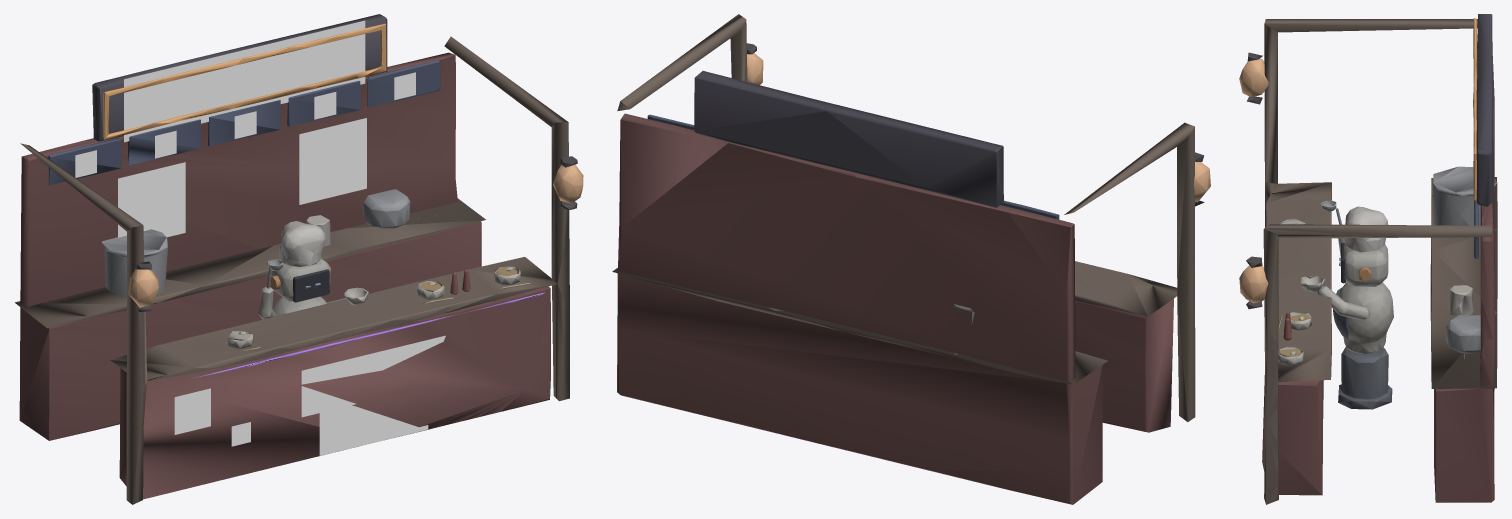
Rendered from kiosque.glb.
3 renders of one model, left to right at view 1: azimuth 30°, elevation 25°; view 2: azimuth 150°, elevation 25°; view 3: azimuth 270°, elevation 25°, orthographic. The views are drawn at different scales.
Visible parts, largest first — view 1: kiosque, kiosque_decallit, kiosque_decal, kiosque_robot, kiosque_glow, kiosque_glowlit; view 2: kiosque, kiosque_glowlit; view 3: kiosque, kiosque_robot, kiosque_glowlit, kiosque_glow.
Boxes of the visible parts, <box> form: kiosque: <box>14,14,577,504</box>; kiosque_decallit: <box>118,20,366,237</box>; kiosque_decal: <box>75,72,445,455</box>; kiosque_robot: <box>258,221,368,319</box>; kiosque_glow: <box>103,23,544,378</box>; kiosque_glowlit: <box>128,164,583,307</box>; kiosque: <box>612,14,1204,504</box>; kiosque_glowlit: <box>747,53,1210,202</box>; kiosque: <box>1246,14,1497,504</box>; kiosque_robot: <box>1301,200,1393,409</box>; kiosque_glowlit: <box>1239,58,1268,303</box>; kiosque_glow: <box>1473,18,1477,200</box>.
Bounding box in the file's own units: 3.74 × 2.61 × 1.88.
